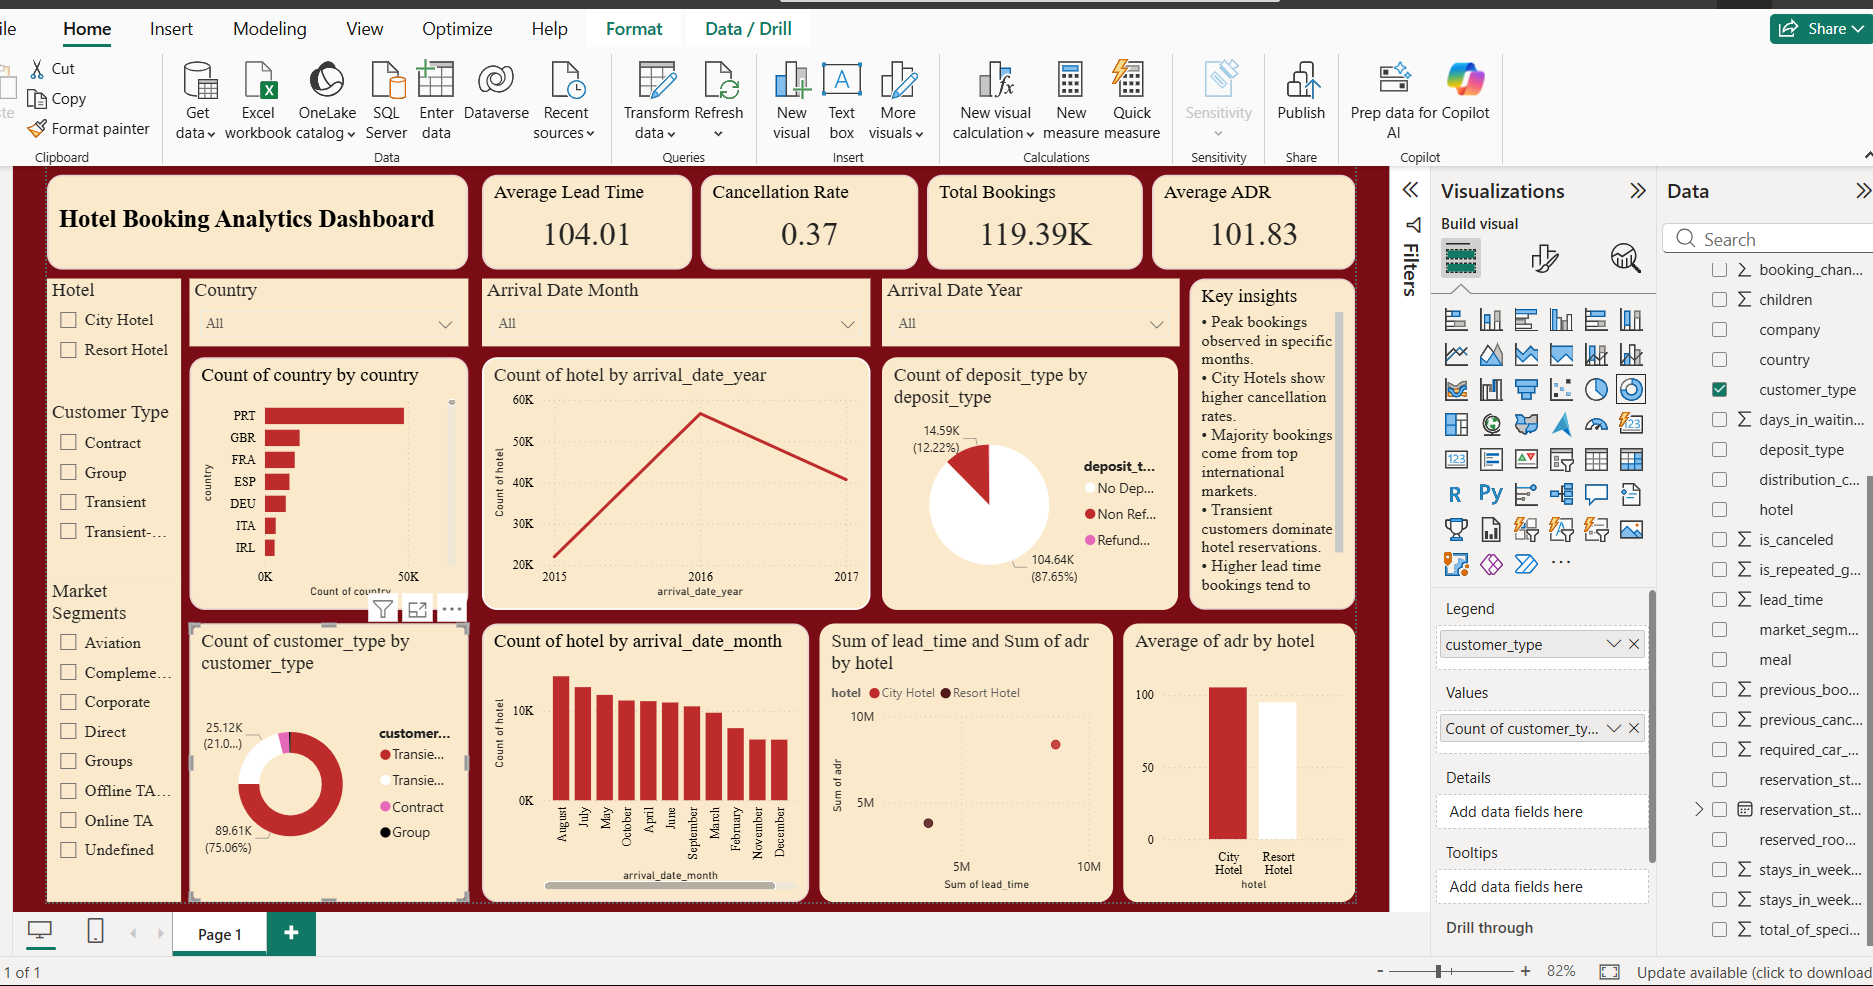

What the dashboard file says about the page in this screenshot:
{"tool":"powerbi","page":{"name":"Page 1","canvas":[1280,720],"ordinal":0},"visuals":[{"type":"card","title":"Total Bookings","fields":{"Values":["CountNonNull(hotel_bookings.hotel)"]},"box":[860.9,8.6,211.6,92.9],"z":0},{"type":"card","title":"Cancellation Rate","fields":{"Values":["Avg(hotel_bookings.is_canceled)"]},"box":[639.5,8.6,212.8,92.9],"z":1000},{"type":"card","title":"Average Lead Time","fields":{"Values":["Avg(hotel_bookings.lead_time)"]},"box":[425.5,8.6,205.4,92.9],"z":2000},{"type":"card","title":"Average ADR","fields":{"Values":["Avg(hotel_bookings.adr)"]},"box":[1081,8.6,199.3,92.9],"z":3000},{"type":"barChart","fields":{"Category":["hotel_bookings.country"],"Y":["CountNonNull(hotel_bookings.country)"]},"box":[139.4,187.1,272.7,247],"z":4000},{"type":"lineChart","fields":{"Category":["hotel_bookings.arrival_date_year"],"Y":["CountNonNull(hotel_bookings.hotel)"]},"box":[425.5,187.1,380.3,247],"z":5000},{"type":"columnChart","fields":{"Category":["hotel_bookings.arrival_date_month"],"Y":["CountNonNull(hotel_bookings.hotel)"]},"box":[425.5,447.6,320.4,272.7],"z":6000},{"type":"columnChart","fields":{"Category":["hotel_bookings.hotel"],"Y":["Avg(hotel_bookings.adr)"]},"box":[1052.9,447.6,227.4,272.7],"z":7000},{"type":"scatterChart","fields":{"X":["Sum(hotel_bookings.lead_time)"],"Y":["Sum(hotel_bookings.adr)"],"Series":["hotel_bookings.hotel"]},"box":[755.7,447.6,287.4,272.7],"z":8000},{"type":"donutChart","fields":{"Category":["hotel_bookings.customer_type"],"Y":["CountNonNull(hotel_bookings.customer_type)"]},"box":[139.4,447.6,272.7,272.7],"z":9000},{"type":"pieChart","fields":{"Category":["hotel_bookings.deposit_type"],"Y":["CountNonNull(hotel_bookings.deposit_type)"]},"box":[816.9,187.1,289.8,247],"z":10000},{"type":"slicer","title":"Hotel","fields":{"Values":["hotel_bookings.hotel"]},"box":[0,110.1,130.8,119.8],"z":11000},{"type":"slicer","title":"Country","fields":{"Values":["hotel_bookings.country"]},"box":[139.4,110.1,272.7,66],"z":12000},{"type":"slicer","title":"Arrival Date Year","fields":{"Values":["hotel_bookings.arrival_date_year"]},"box":[816.9,110.1,291,66],"z":13000},{"type":"slicer","title":"Arrival Date Month","fields":{"Values":["hotel_bookings.arrival_date_month"]},"box":[425.5,110.1,380.3,66],"z":14000},{"type":"slicer","title":"Customer Type","fields":{"Values":["hotel_bookings.customer_type"]},"box":[0,229.9,130.8,174.9],"z":15000},{"type":"slicer","title":"Market Segments","fields":{"Values":["hotel_bookings.market_segment"]},"box":[0,404.8,130.8,315.5],"z":16000},{"type":"textbox","box":[0,8.6,412.1,92.9],"z":17000},{"type":"textbox","title":"Key insights","box":[1117.7,110.1,162.6,324.1],"z":18000}]}

Visuals, with their boxes on the page's 1280x720 design canvas (x1, y1, x2, y2). These are canvas units, not pixel positions in the 1873x986 screenshot, which may show the page scaled, cropped or inside an application window:
"Total Bookings" card: locate(861, 9, 1072, 102)
"Cancellation Rate" card: locate(640, 9, 852, 102)
"Average Lead Time" card: locate(426, 9, 631, 102)
"Average ADR" card: locate(1081, 9, 1280, 102)
barChart - hotel_bookings.country x CountNonNull(hotel_bookings.country): locate(139, 187, 412, 434)
lineChart - hotel_bookings.arrival_date_year x CountNonNull(hotel_bookings.hotel): locate(426, 187, 806, 434)
columnChart - hotel_bookings.arrival_date_month x CountNonNull(hotel_bookings.hotel): locate(426, 448, 746, 720)
columnChart - hotel_bookings.hotel x Avg(hotel_bookings.adr): locate(1053, 448, 1280, 720)
scatterChart - Sum(hotel_bookings.lead_time) x Sum(hotel_bookings.adr): locate(756, 448, 1043, 720)
donutChart - hotel_bookings.customer_type x CountNonNull(hotel_bookings.customer_type): locate(139, 448, 412, 720)
pieChart - hotel_bookings.deposit_type x CountNonNull(hotel_bookings.deposit_type): locate(817, 187, 1107, 434)
"Hotel" slicer: locate(0, 110, 131, 230)
"Country" slicer: locate(139, 110, 412, 176)
"Arrival Date Year" slicer: locate(817, 110, 1108, 176)
"Arrival Date Month" slicer: locate(426, 110, 806, 176)
"Customer Type" slicer: locate(0, 230, 131, 405)
"Market Segments" slicer: locate(0, 405, 131, 720)
textbox: locate(0, 9, 412, 102)
"Key insights" textbox: locate(1118, 110, 1280, 434)
